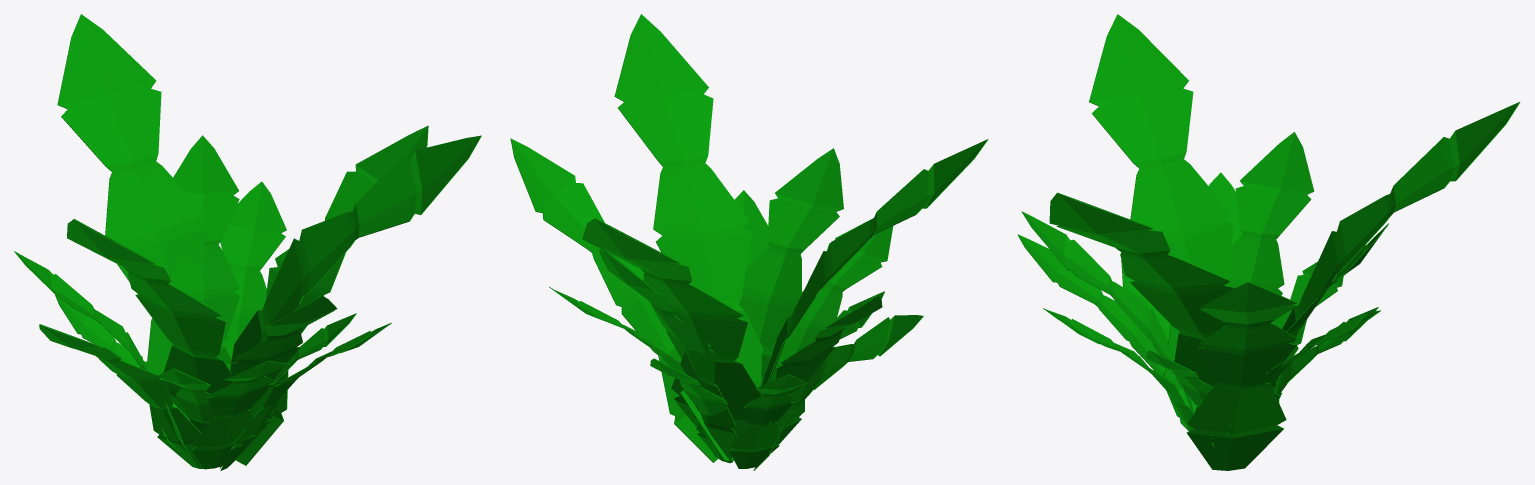
Rendered from arbusto.fbx.
3 renders of one model, left to right at view 1: azimuth 30°, elevation 25°; view 2: azimuth 150°, elevation 25°; view 3: azimuth 270°, elevation 25°, orthographic. The views are drawn at different scales.
Visible parts, largest first — view 1: Plane.014; view 2: Plane.014; view 3: Plane.014.
Part boxes in pixels (x1,y1,x2,y2): Plane.014: (14,14,481,470); Plane.014: (510,14,988,470); Plane.014: (1017,14,1520,470).
Size of the model in its own units: 792 by 631 by 797.
